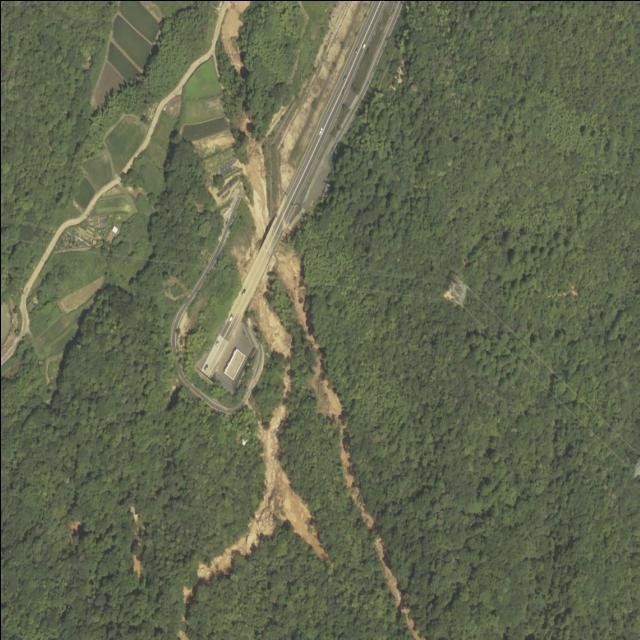landslide: (270, 246, 374, 532), (198, 364, 328, 581), (373, 535, 420, 640), (250, 276, 291, 358), (245, 136, 271, 234), (220, 0, 245, 47)
